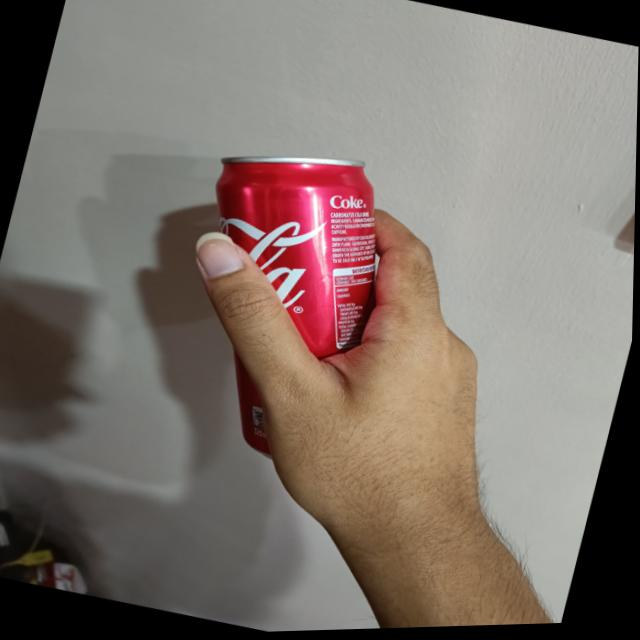coke: (146, 129, 449, 486)
